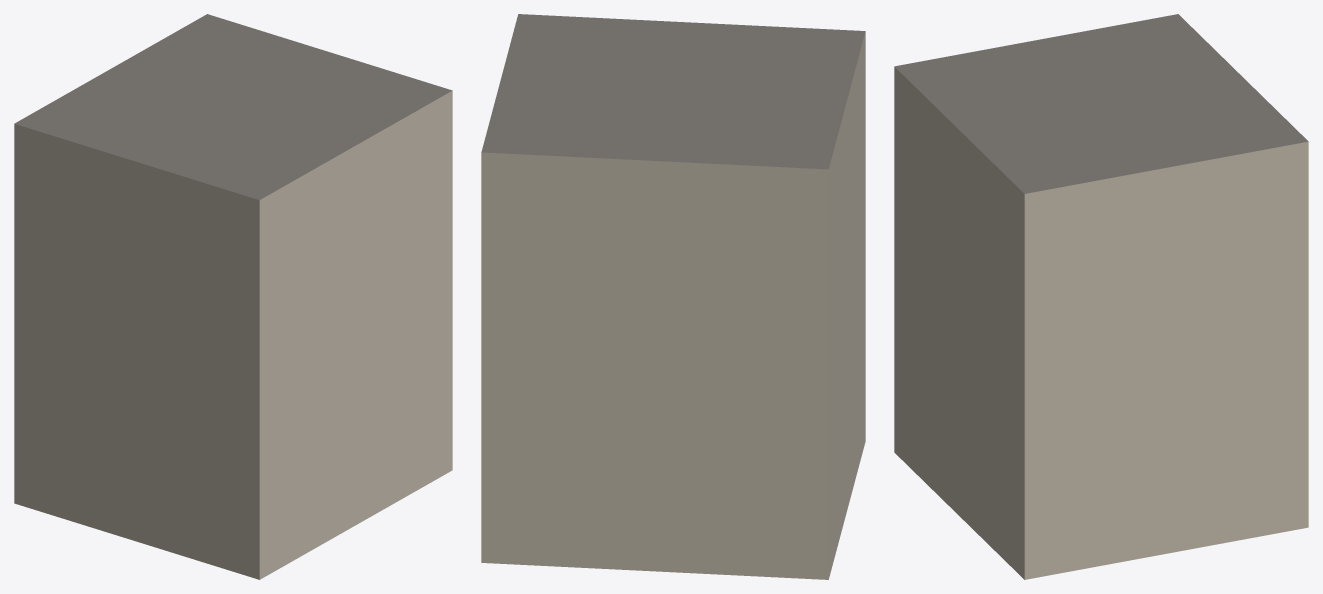
3 renders of one model, left to right at view 1: azimuth 30°, elevation 25°; view 2: azimuth 150°, elevation 25°; view 3: azimuth 270°, elevation 25°, orthographic. The views are drawn at different scales.
Visible parts, largest first — view 1: HP-w378107139; view 2: HP-w378107139; view 3: HP-w378107139.
Boxes of the visible parts, x1,y1,x2,y2 form: HP-w378107139: (14,14,452,579); HP-w378107139: (481,14,865,579); HP-w378107139: (894,14,1308,579).
Bounding box in the file's own units: 18 × 18 × 17.52.
